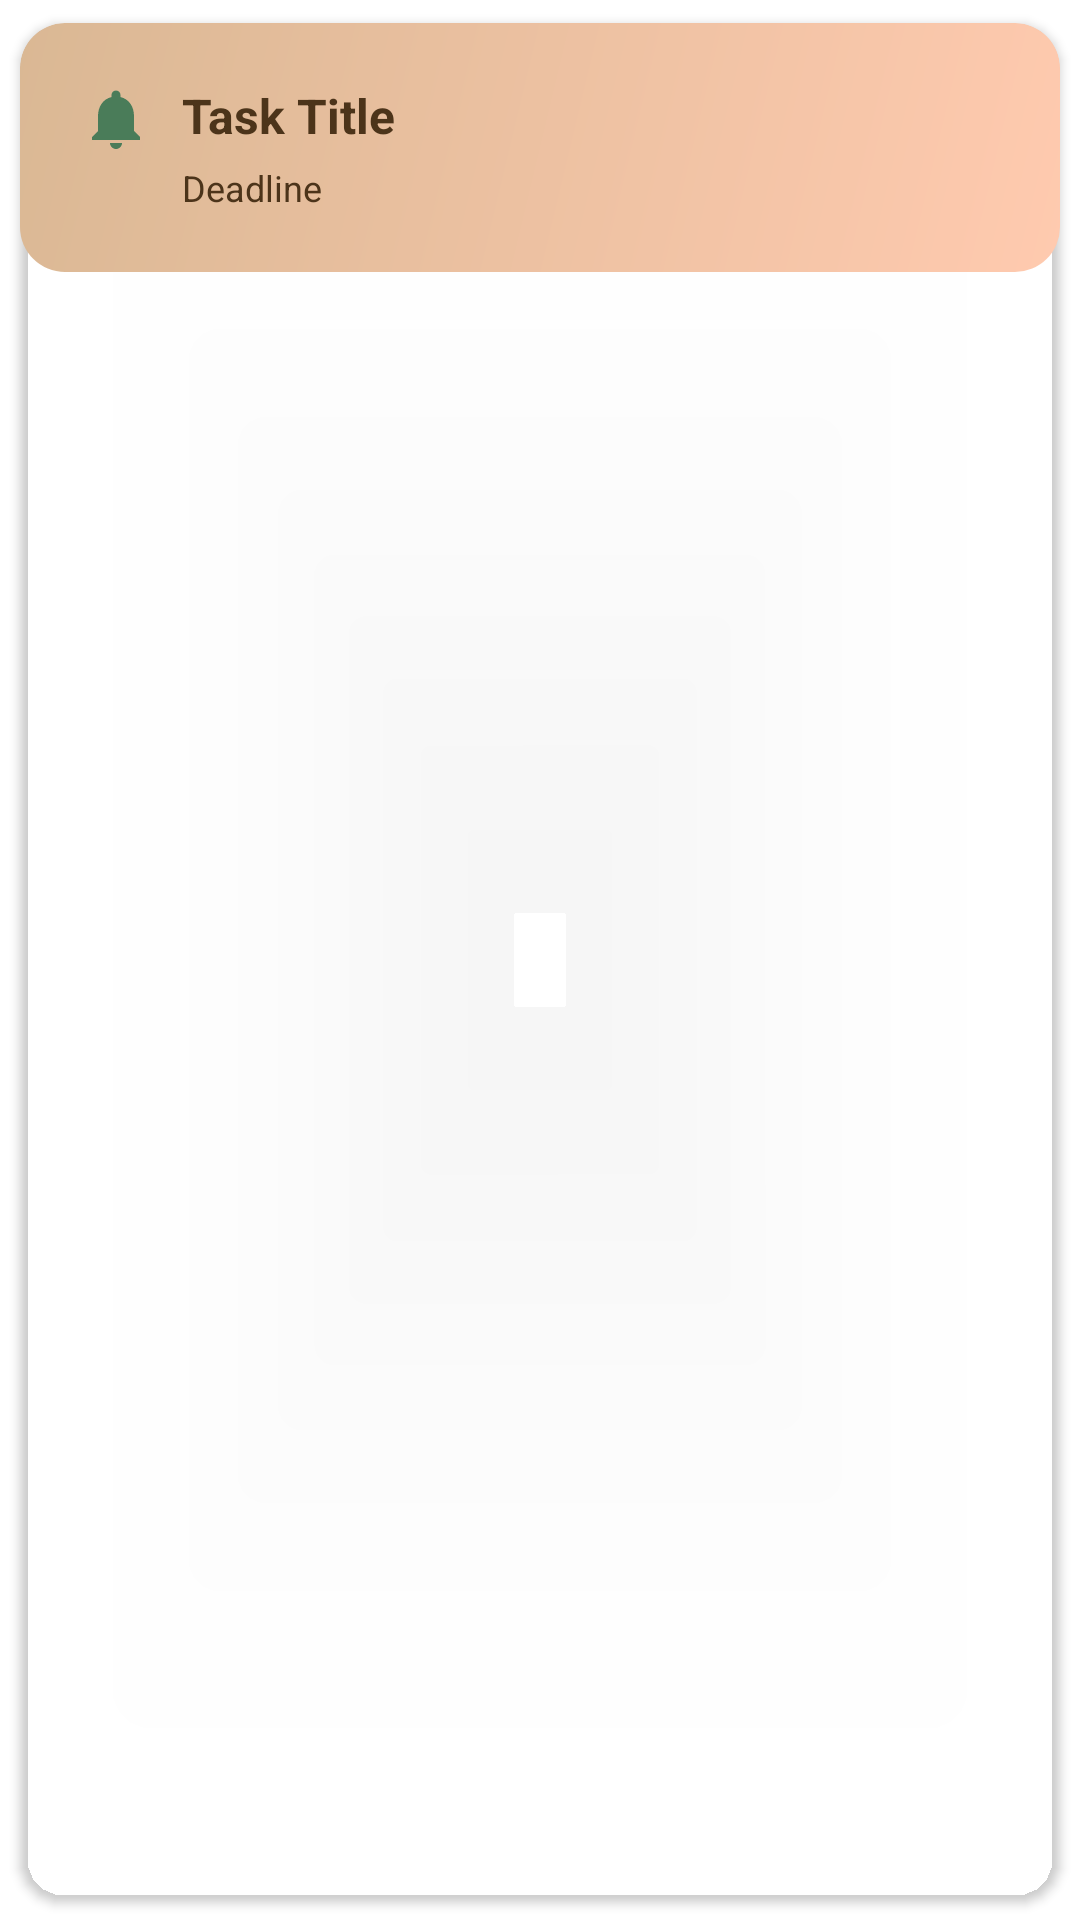

Screen size 1080 × 1920. Icon name, then its box in pixels as (x1, y1, x2, y2):
notifications: (92, 90, 140, 149)
